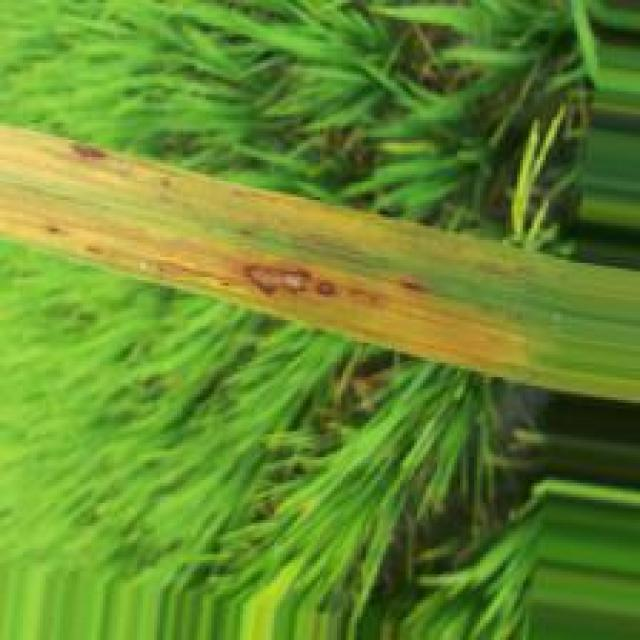Leaf_Blast: (236, 259, 342, 307)
